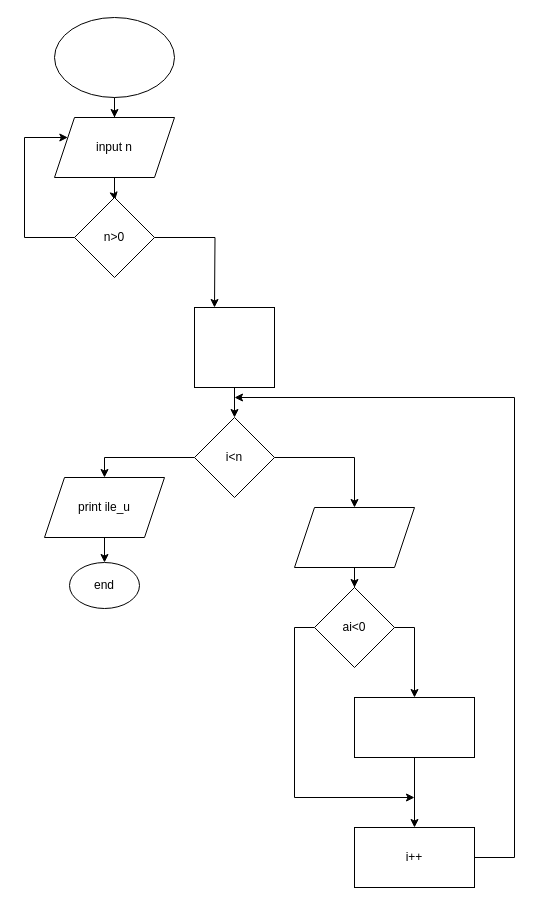
Image size: 540x905. Some labels were removed from this diagram. The shapes that lost their labels are listed below. From the top down, each one's centre as x and y in pixels, then its label:
the point at 114,57: start
the point at 234,347: i=0 ile_u=0
the point at 354,537: input ai
the point at 414,727: ile_u++
